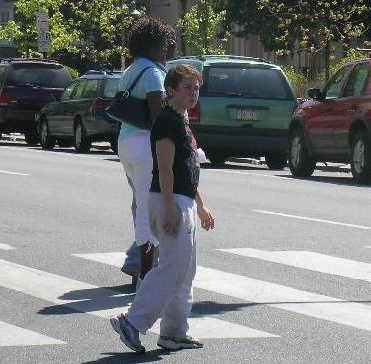pedestrian: (110, 63, 214, 352), (105, 17, 174, 294)
